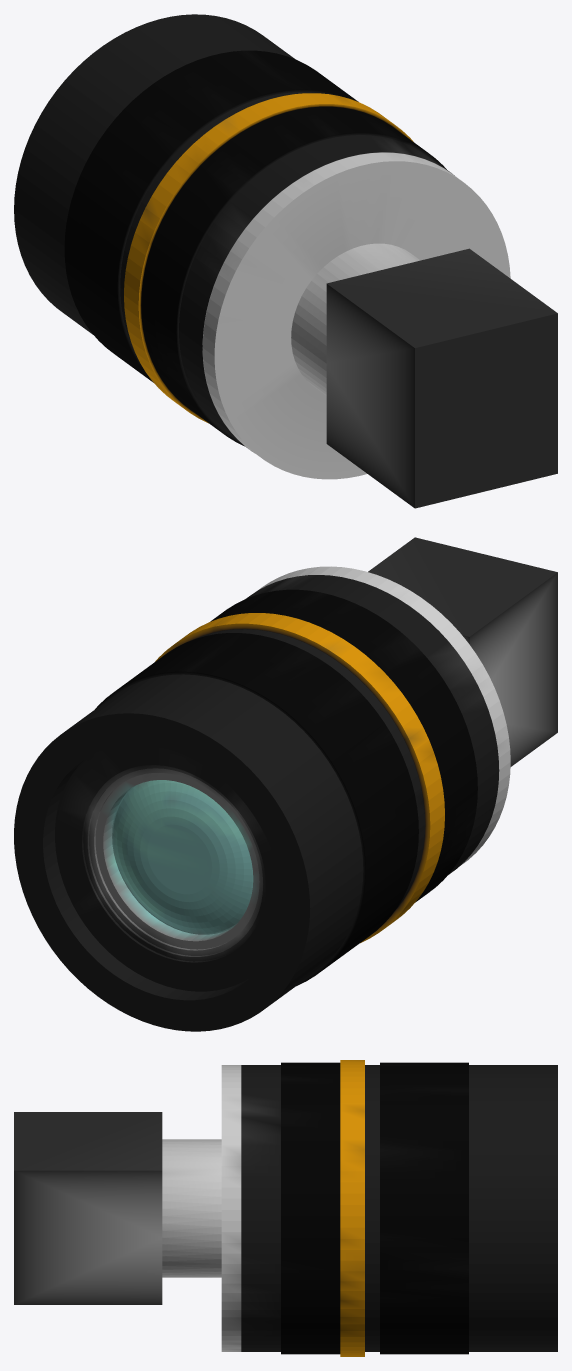
File: camera.dae
3 renders of one model, top to bottom at view 1: azimuth 30°, elevation 25°; view 2: azimuth 150°, elevation 25°; view 3: azimuth 270°, elevation 25°, orthographic. The views are drawn at different scales.
Visible parts, largest first — view 1: node; view 2: node; view 3: node.
Boxes of the visible parts, x1=… form: node: x1=14, y1=14, x2=557, y2=508; node: x1=14, y1=537, x2=557, y2=1031; node: x1=14, y1=1060, x2=557, y2=1356.
Bounding box in the file's own units: 0.06 × 0.06 × 0.11.
